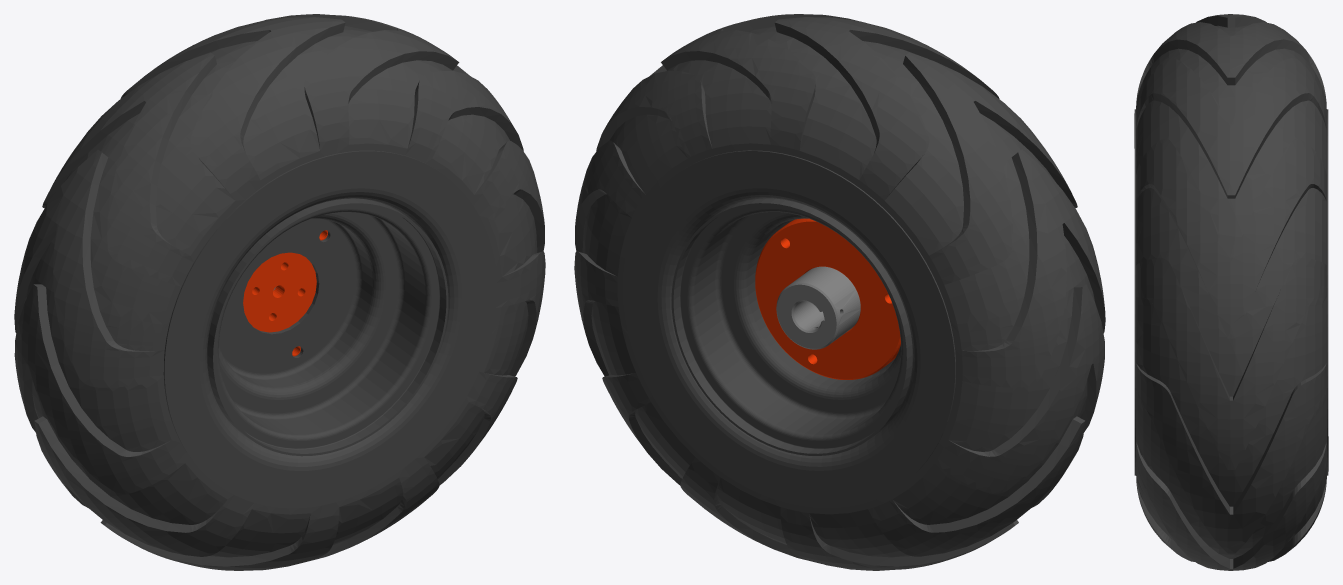
Rendered from wheel.dae.
3 views of the same model, side by side, from view 1: azimuth 30°, elevation 25°; view 2: azimuth 150°, elevation 25°; view 3: azimuth 270°, elevation 25° (orthographic). The views are drawn at different scales.
Parts seen in each view (by area): view 1: node1, node2; view 2: node1, node2, node0; view 3: node1.
Boxes of the visible parts, box(x1,y1,x2,y2) form: node1: box(14, 14, 545, 570); node2: box(243, 230, 327, 356); node1: box(574, 14, 1105, 570); node2: box(755, 218, 900, 379); node0: box(776, 266, 860, 349); node1: box(1134, 14, 1328, 570).
Bounding box in the file's own units: 0.3649 × 0.1271 × 0.3649.
